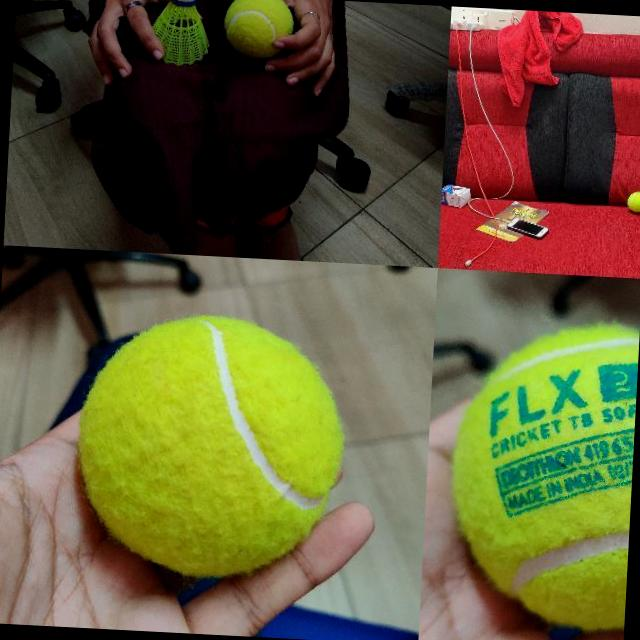Tennis Ball: (73, 310, 347, 580), (446, 316, 640, 628), (223, 0, 295, 59), (626, 190, 640, 213)
